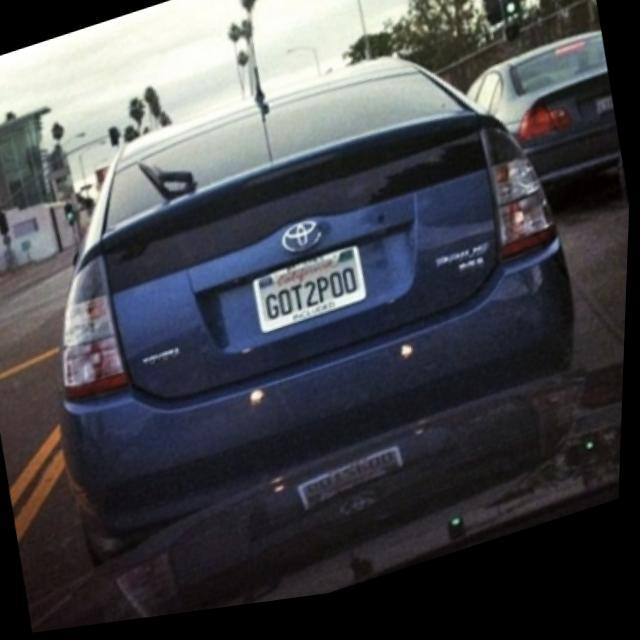license_plate: (251, 254, 372, 342)
